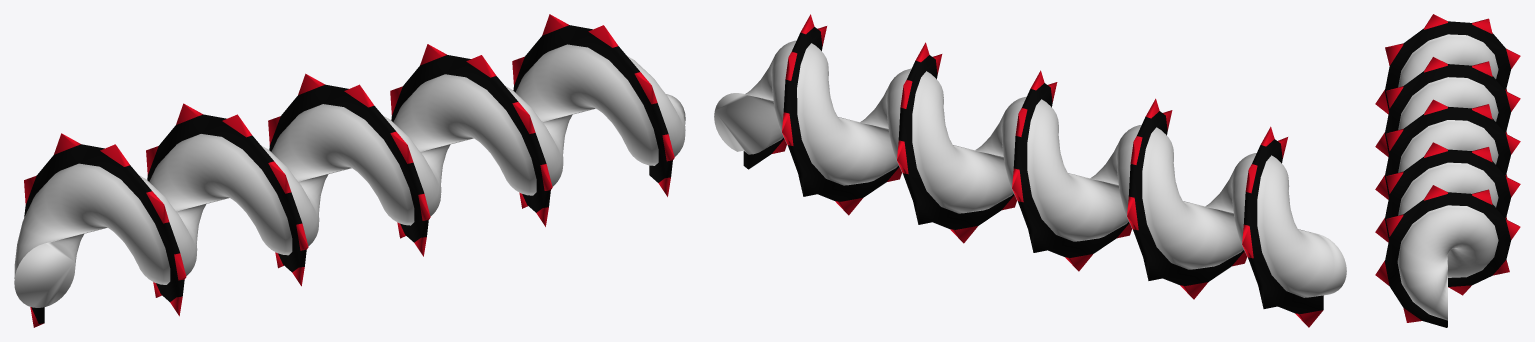
The model's file is barbed_wire.fbx.
3 renders of one model, left to right at view 1: azimuth 30°, elevation 25°; view 2: azimuth 150°, elevation 25°; view 3: azimuth 270°, elevation 25°, orthographic. The views are drawn at different scales.
Visible parts, largest first — view 1: Circle; view 2: Circle; view 3: Circle.
Boxes of the visible parts, bbox=[...] form: Circle: bbox=[14, 14, 685, 327]; Circle: bbox=[714, 14, 1346, 327]; Circle: bbox=[1375, 14, 1520, 327].
Size of the model in its own units: 880 by 230 by 230.
